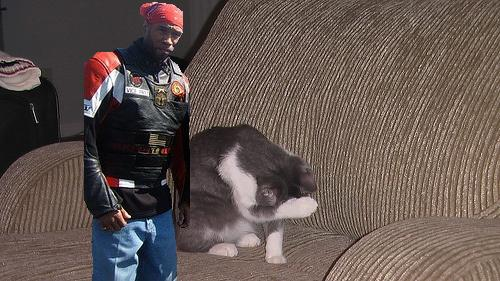tampered: (85, 3, 190, 281)
